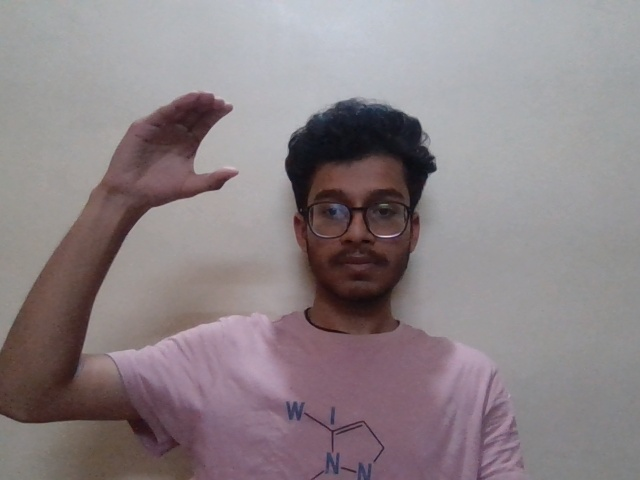C: (94, 86, 253, 222)
